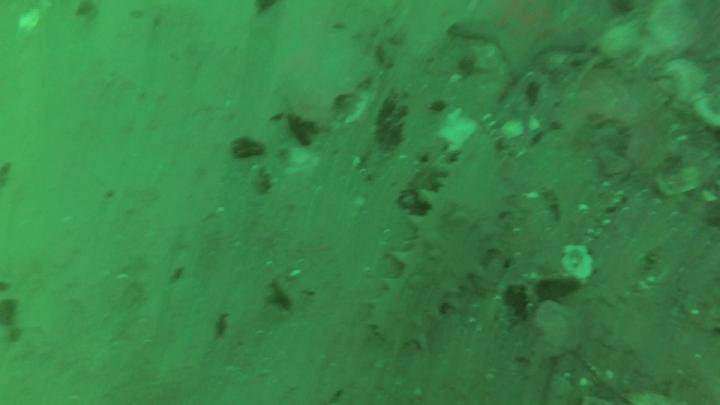holothurian: (369, 128, 514, 356)
starfish: (448, 3, 588, 78)
